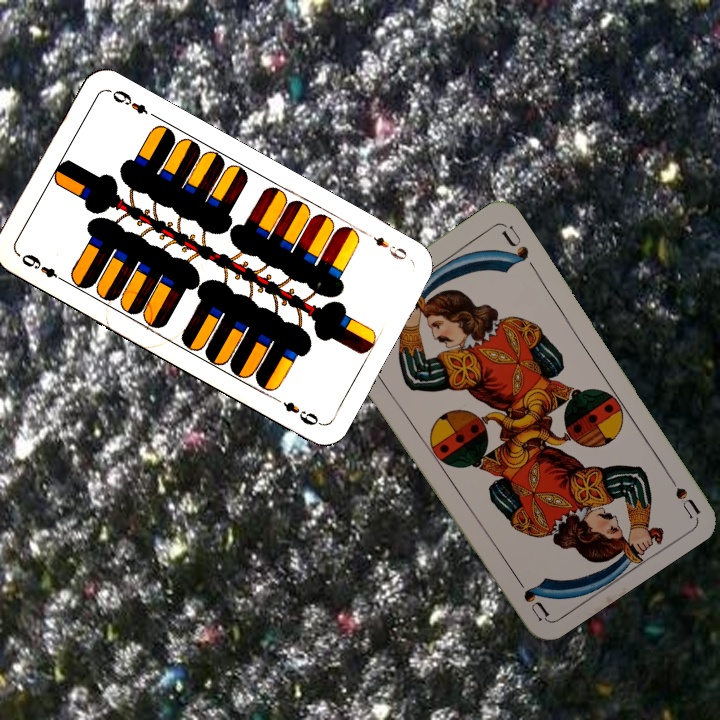E9: (17, 250, 69, 286), (369, 232, 410, 263)
SU: (660, 464, 702, 519)
